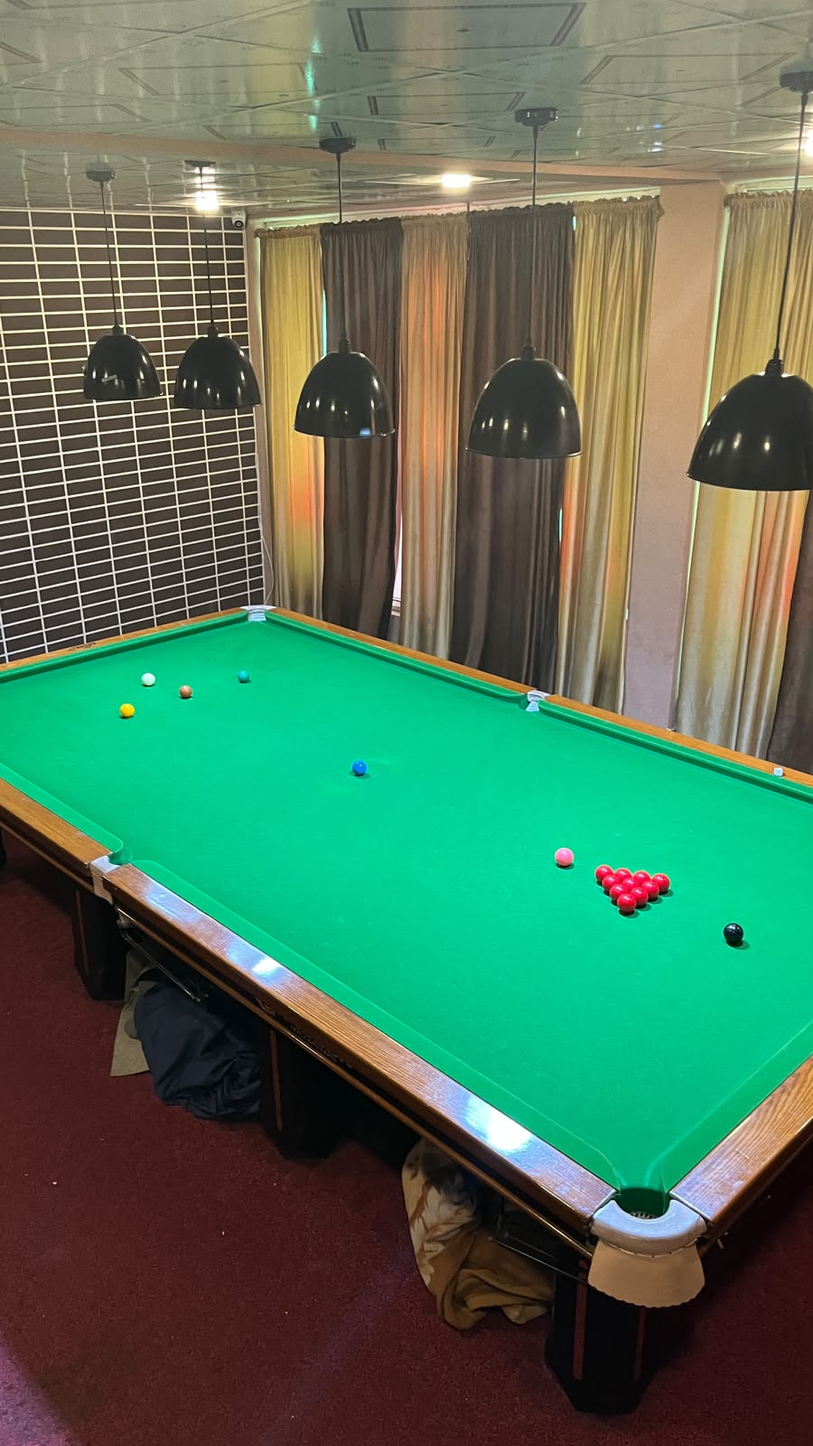Snooker: (592, 854, 676, 947)
